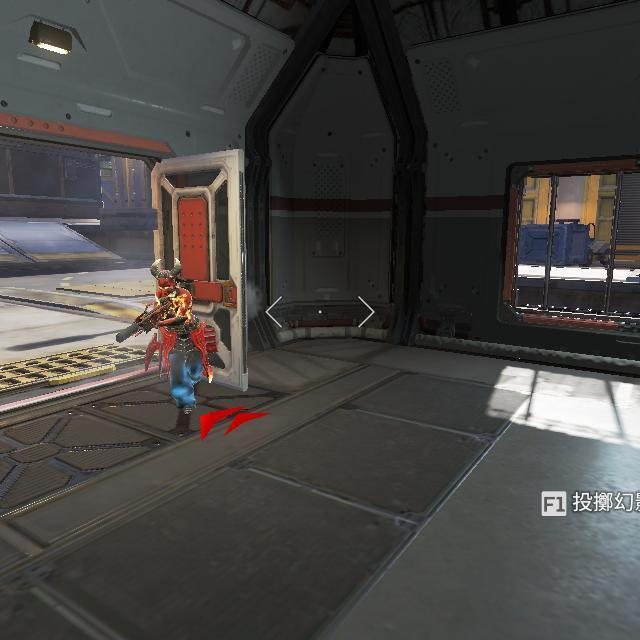avatar: (141, 255, 215, 412)
